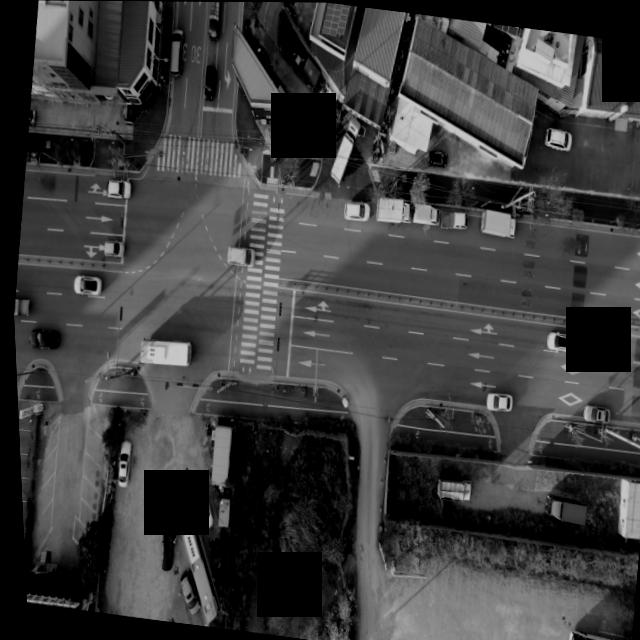car: (168, 566, 199, 611), (186, 486, 210, 531), (165, 28, 184, 75), (152, 522, 171, 569), (108, 440, 126, 487), (541, 125, 572, 150), (25, 326, 56, 349), (219, 242, 250, 265), (70, 273, 98, 298), (338, 198, 367, 221), (481, 388, 508, 411), (102, 177, 130, 199), (576, 401, 605, 422), (539, 331, 566, 352), (202, 63, 215, 97), (99, 239, 121, 258), (424, 149, 444, 166)
large_bus: (160, 508, 223, 626), (131, 334, 189, 370), (556, 623, 626, 640)
medium_truck: (324, 108, 362, 189), (537, 488, 583, 527), (473, 206, 514, 238), (368, 194, 409, 223)
small_truck: (428, 477, 466, 507), (406, 201, 437, 229), (436, 207, 467, 233), (203, 1, 224, 38), (10, 293, 29, 319)
